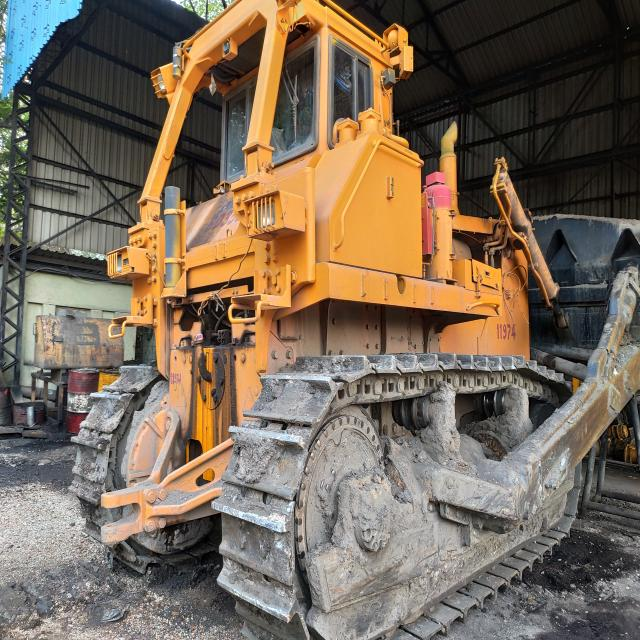buldozerpayloadergrader: (74, 0, 640, 638)
